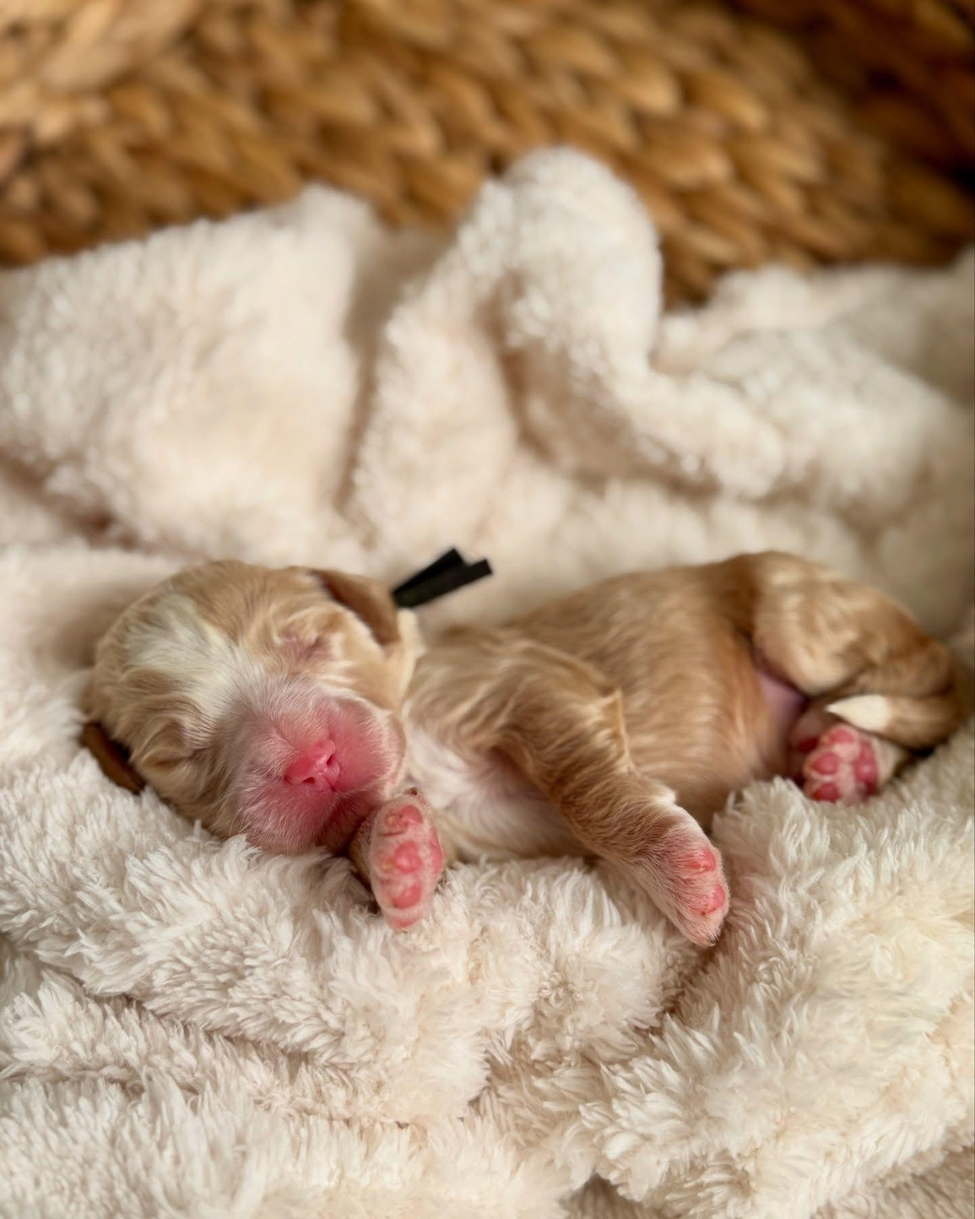puppy-dog: (72, 547, 971, 956)
